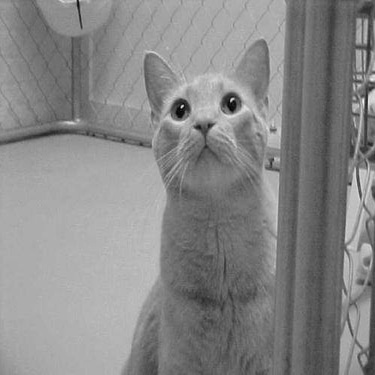cat: (96, 19, 295, 372)
